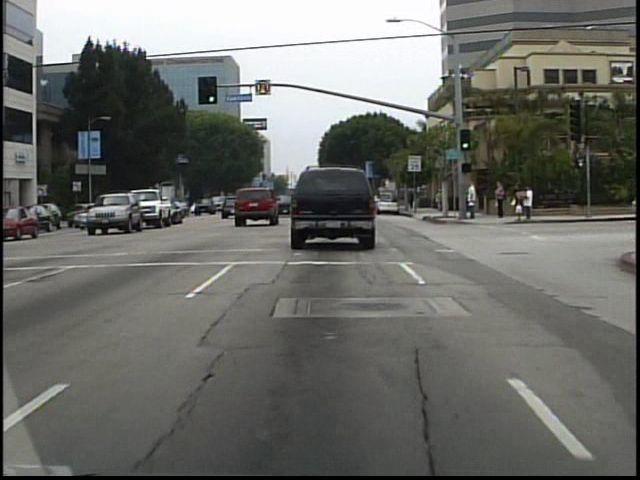person: (463, 177, 480, 223), (493, 178, 510, 222), (431, 186, 445, 215), (408, 186, 415, 212)
